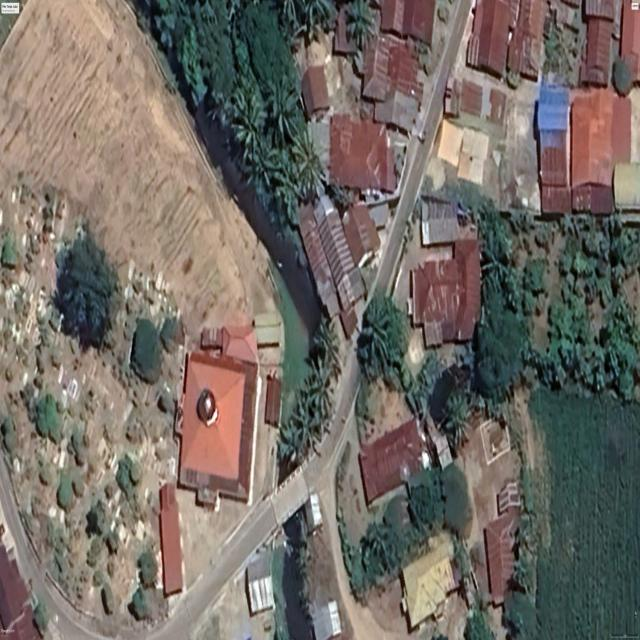Home: (536, 84, 631, 214), (407, 198, 481, 347), (300, 196, 364, 338), (359, 419, 431, 506), (362, 34, 424, 132), (401, 532, 457, 630), (329, 114, 396, 192), (467, 0, 511, 78), (484, 508, 518, 605), (507, 0, 545, 81), (342, 202, 380, 268), (381, 0, 436, 45), (586, 17, 613, 86), (620, 0, 640, 85), (301, 65, 330, 118)
mosque: (174, 327, 261, 504)
